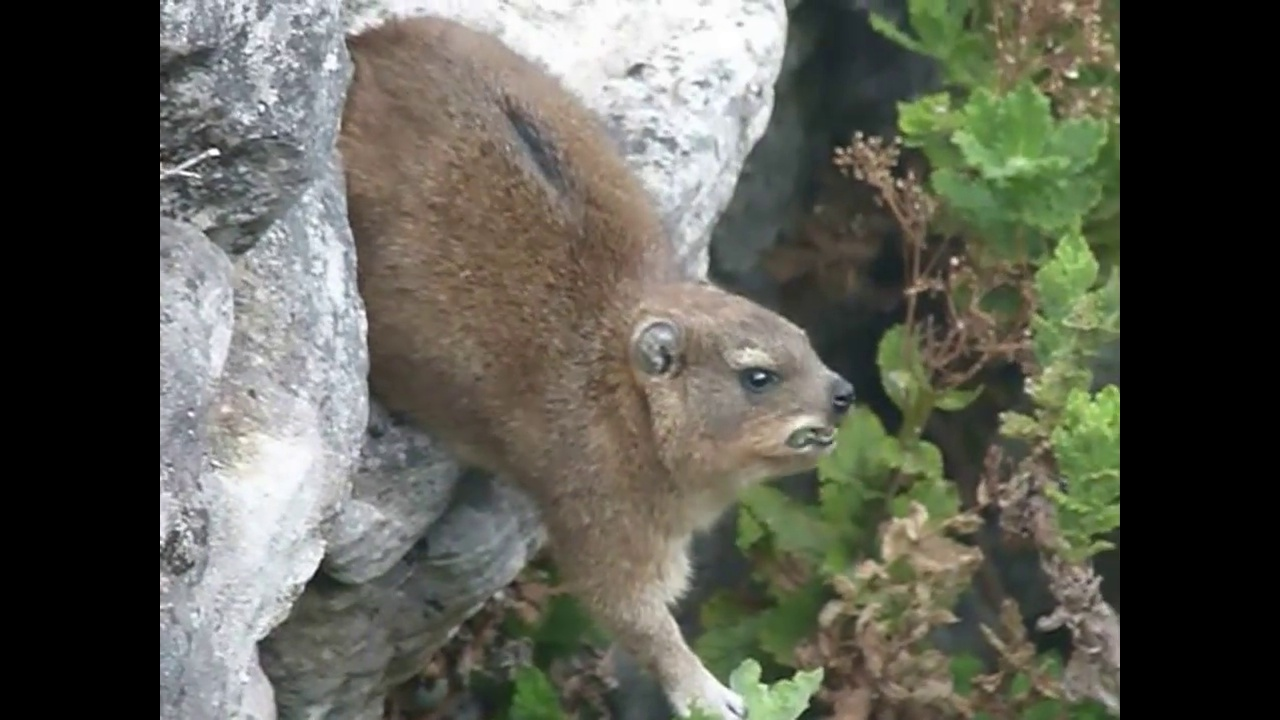Rock Hyrex: (347, 10, 862, 720)
